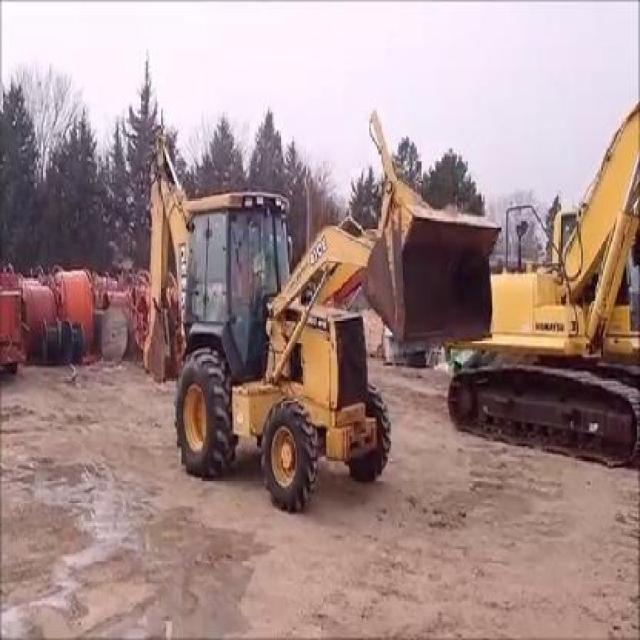excavator: (444, 94, 638, 460)
